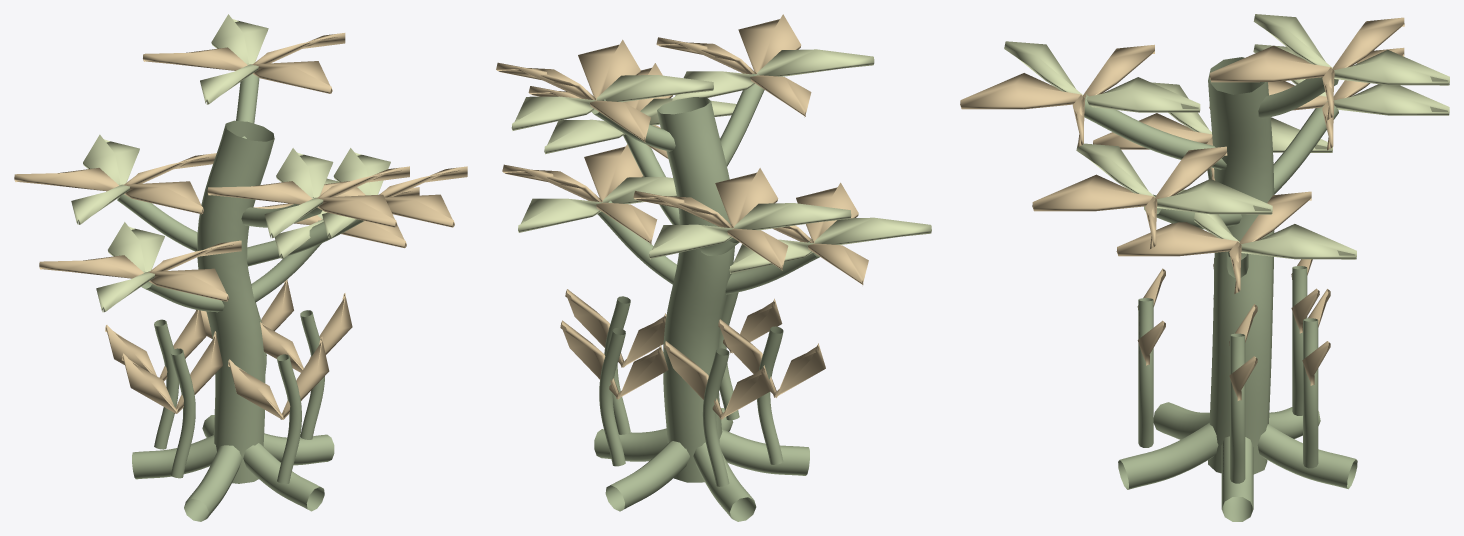
Rendered from bio_canopy_tree_02_near.glb.
The picture shows the model from 3 angles, left to right: view 1: azimuth 30°, elevation 25°; view 2: azimuth 150°, elevation 25°; view 3: azimuth 270°, elevation 25°; orthographic projection. The views are drawn at different scales.
Parts seen in each view (by area): view 1: Buttressed trunk, Broad canopy leaf.020, Broad canopy leaf.010, Broad canopy leaf.015, Broad canopy leaf.005, Broad canopy leaf.011, Broad canopy leaf.016, Broad canopy leaf.021, Broad canopy leaf.025, Broad canopy leaf.006, Secondary fan lobe.008, Secondary fan lobe.004 (+10 smaller); view 2: Buttressed trunk, Broad canopy leaf.005, Broad canopy leaf.015, Broad canopy leaf.010, Broad canopy leaf, Broad canopy leaf.016, Broad canopy leaf.006, Broad canopy leaf.011, Broad canopy leaf.021, Broad canopy leaf.001, Broad canopy leaf.020, Broad canopy leaf.026 (+11 smaller); view 3: Buttressed trunk, Broad canopy leaf.025, Broad canopy leaf.015, Broad canopy leaf.010, Broad canopy leaf, Broad canopy leaf.016, Broad canopy leaf.026, Broad canopy leaf.011, Broad canopy leaf.001, Broad canopy leaf.006, Branching support.003, Branching support (+9 smaller).
Part boxes in pixels (x1,y1,x2,y2): Buttressed trunk: (117,74,363,521); Broad canopy leaf.020: (39,240,241,301); Broad canopy leaf.010: (207,166,409,227); Broad canopy leaf.015: (143,33,345,93); Broad canopy leaf.005: (14,153,216,214); Broad canopy leaf.011: (264,148,333,238); Broad canopy leaf.016: (200,14,268,104); Broad canopy leaf.021: (96,222,164,312); Broad canopy leaf.025: (320,166,467,227); Broad canopy leaf.006: (71,134,139,224); Secondary fan lobe.008: (122,331,222,413); Secondary fan lobe.004: (228,337,329,419); Buttressed trunk: (592,73,819,521); Broad canopy leaf.005: (633,168,788,270); Broad canopy leaf.015: (496,39,650,142); Broad canopy leaf.010: (656,14,811,117); Broad canopy leaf: (502,144,657,244); Broad canopy leaf.016: (511,75,713,130); Broad canopy leaf.006: (649,203,851,259); Broad canopy leaf.011: (672,49,874,101); Broad canopy leaf.021: (729,217,931,273); Broad canopy leaf.001: (518,176,676,232); Broad canopy leaf.020: (773,182,868,284); Broad canopy leaf.026: (544,98,736,154); Buttressed trunk: (1084,57,1357,521); Broad canopy leaf.025: (1032,146,1227,248); Broad canopy leaf.015: (1209,17,1404,120); Broad canopy leaf.010: (960,44,1154,147); Broad canopy leaf: (1116,191,1311,293); Broad canopy leaf.016: (1253,14,1449,85); Broad canopy leaf.026: (1076,143,1272,214); Broad canopy leaf.011: (1004,41,1200,112); Broad canopy leaf.001: (1176,189,1356,259); Broad canopy leaf.006: (1253,44,1449,115); Branching support.003: (1303,318,1318,468); Branching support: (1230,333,1245,483).
Bounding box in the file's own units: 2.97 × 2.99 × 2.93.
